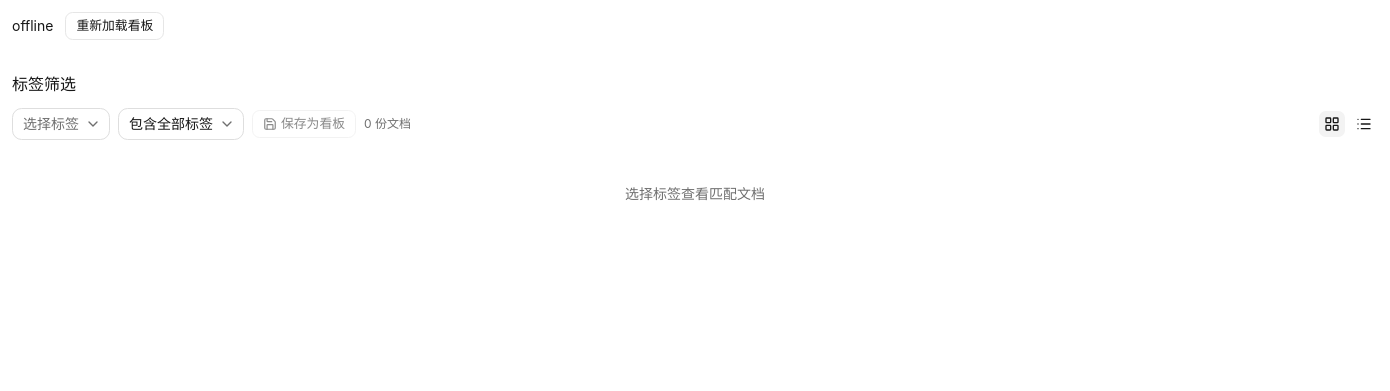
offers retry after failing to load saved boards
Expected: the message "offline 重新加载看板" is shown, [12, 12, 164, 40]
Click the button "重新加载看板".
click(115, 26)  # box [65, 12, 164, 40]
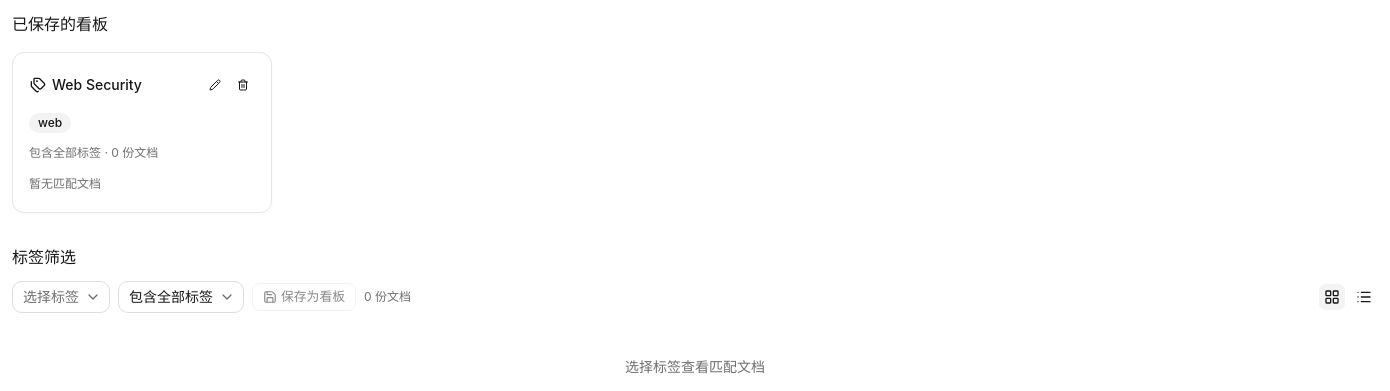
Expected: the element with class "tag-board-card" shows "Web Security", [29, 69, 195, 101]
